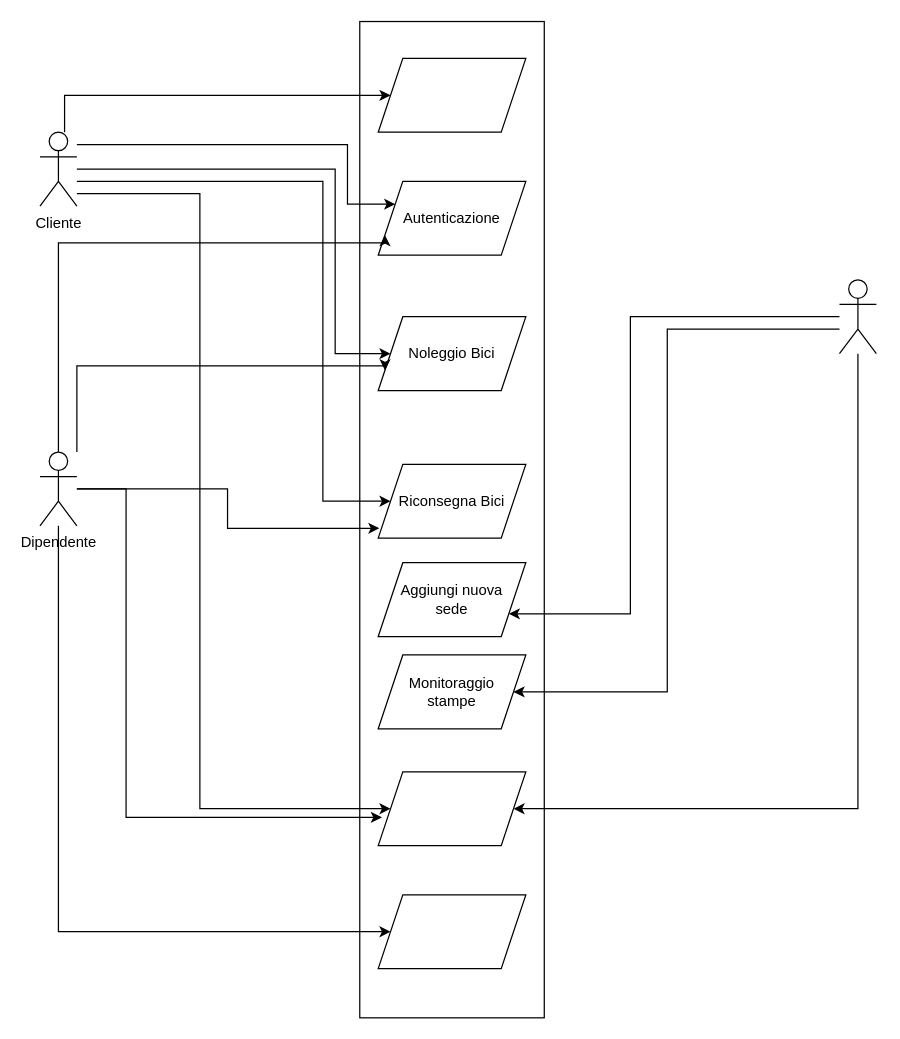
The diagram is 900 pixels wide and 1039 high, and some of its shapes have lost their labels. Each missing label, with the centre of its shape:
"Admin" goes at [857,316].
"Monitoraggio servizio" goes at [451,931].
"Registrazione" goes at [451,94].
"Riepilogo" goes at [451,808].
